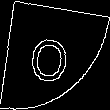O_N: (32, 26, 78, 84)
